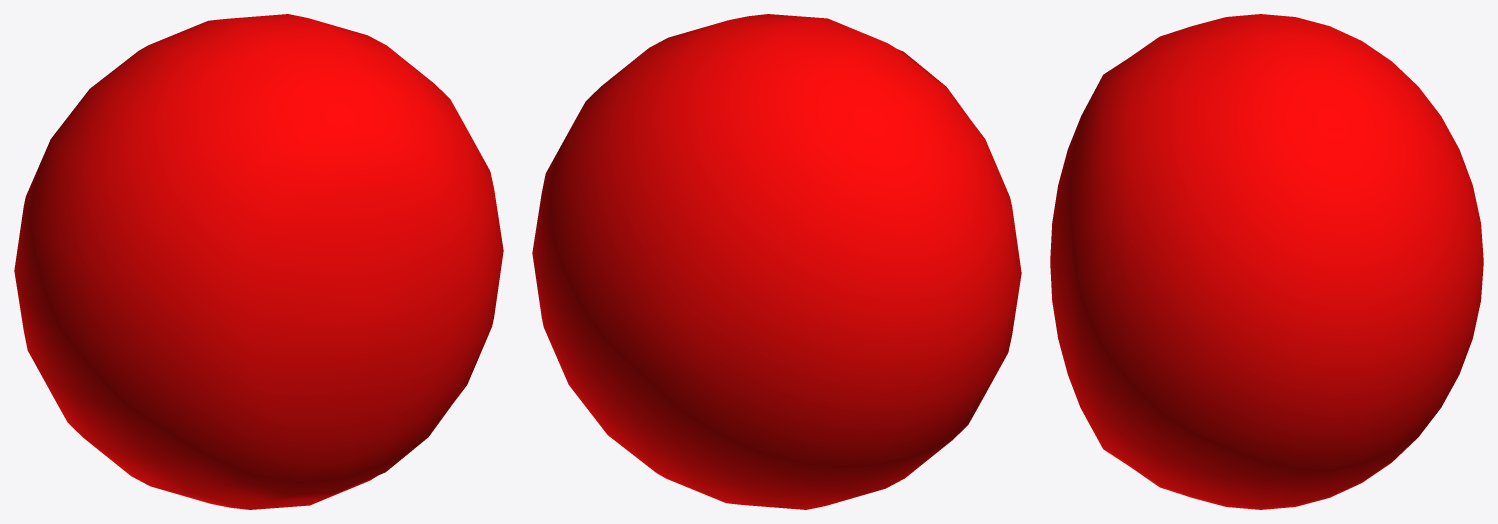
3 views of the same model, side by side, from view 1: azimuth 30°, elevation 25°; view 2: azimuth 150°, elevation 25°; view 3: azimuth 270°, elevation 25° (orthographic).
Bounding box in the file's own units: 1 × 1 × 0.8677.
